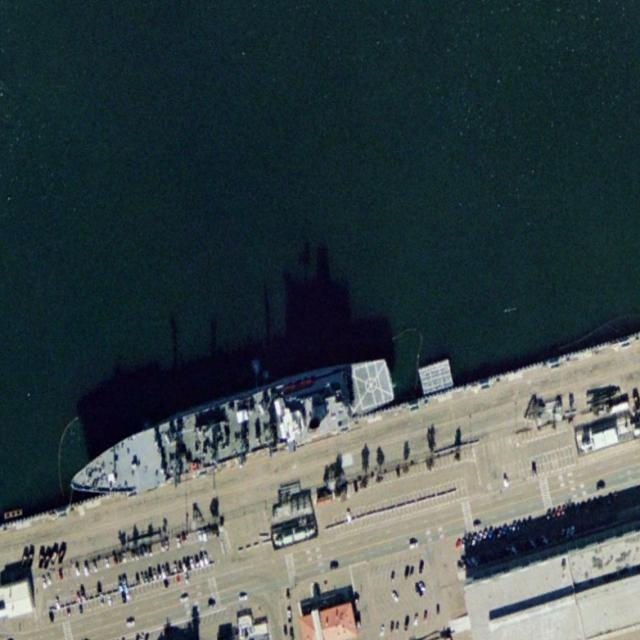Commander: (61, 343, 398, 517)
